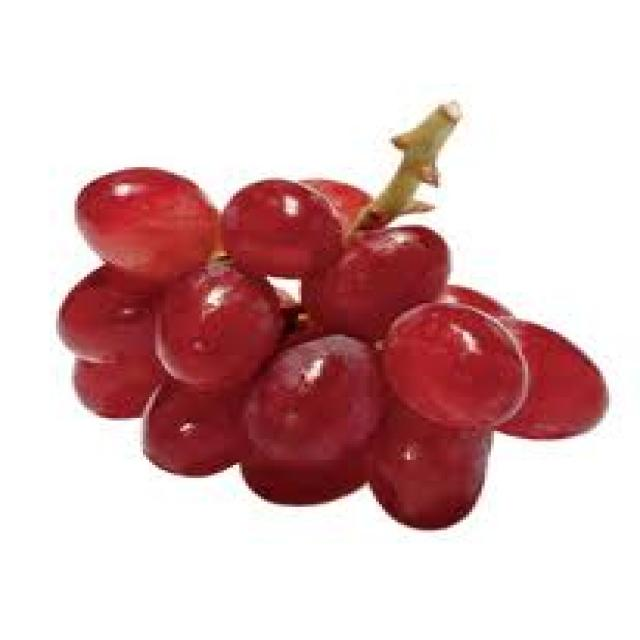cherry: (44, 138, 612, 541)
